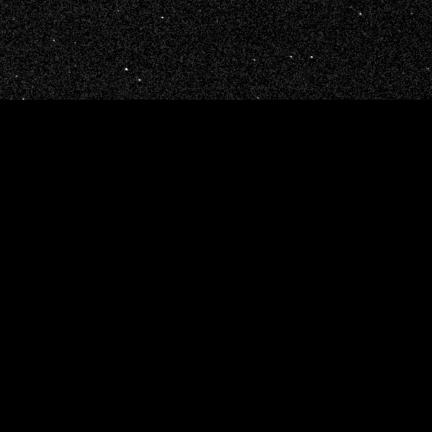blob: (139, 79, 142, 82), (311, 56, 314, 59), (290, 56, 293, 59), (125, 68, 128, 71)
